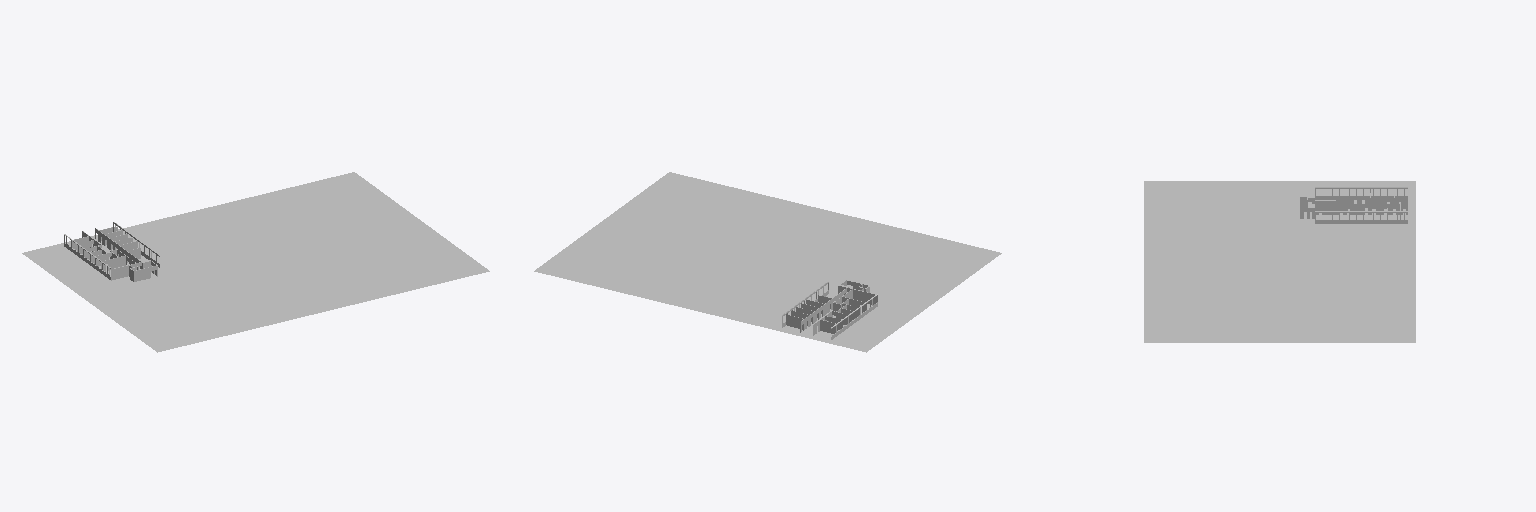
The model's file is aile A.obj.
3 views of the same model, side by side, from view 1: azimuth 30°, elevation 25°; view 2: azimuth 150°, elevation 25°; view 3: azimuth 270°, elevation 25° (orthographic).
Visible parts, largest first — view 1: 620_RDC_pages-to-jpg-0001, walls; view 2: 620_RDC_pages-to-jpg-0001, walls; view 3: 620_RDC_pages-to-jpg-0001, walls, fenetre_A.002.
Part boxes in pixels (left/top/right/bottom): 620_RDC_pages-to-jpg-0001: left=22, top=172, right=489, bottom=352; walls: left=70, top=226, right=172, bottom=288; 620_RDC_pages-to-jpg-0001: left=534, top=172, right=1001, bottom=352; walls: left=786, top=280, right=892, bottom=335; 620_RDC_pages-to-jpg-0001: left=1144, top=181, right=1415, bottom=342; walls: left=1284, top=189, right=1409, bottom=225; fenetre_A.002: left=1315, top=211, right=1407, bottom=223.
Bounding box in the file's own units: 99.29 × 3.55 × 70.2.